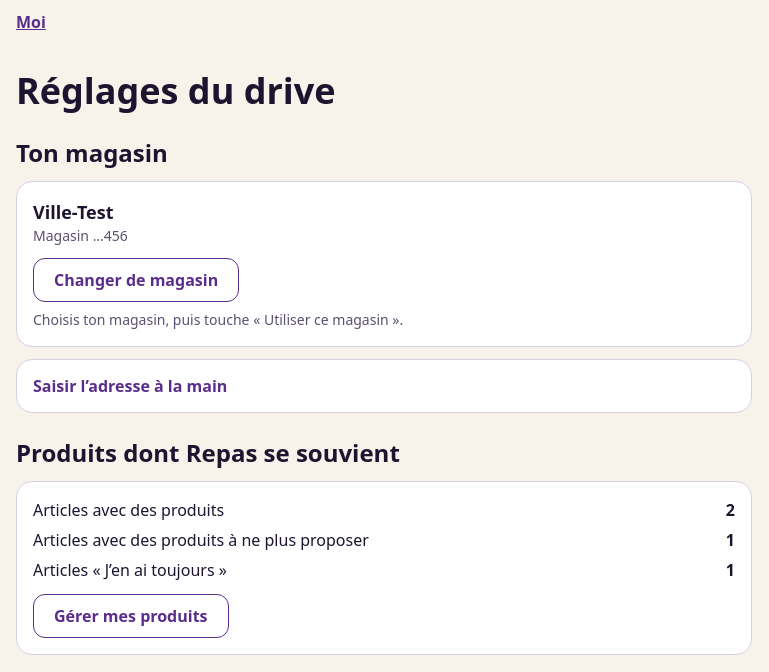
Scenario: réglages du drive : la lecture du magasin par l’application (un seul geste, DRV-623) › le même magasin relu : rien n’est écrit, aucun écran de plus
Check: the heading "Réglages du drive" is shown, box [16,66,336,115]
Click the button "Changer de magasin" at (136, 280), box [33,258,239,302]
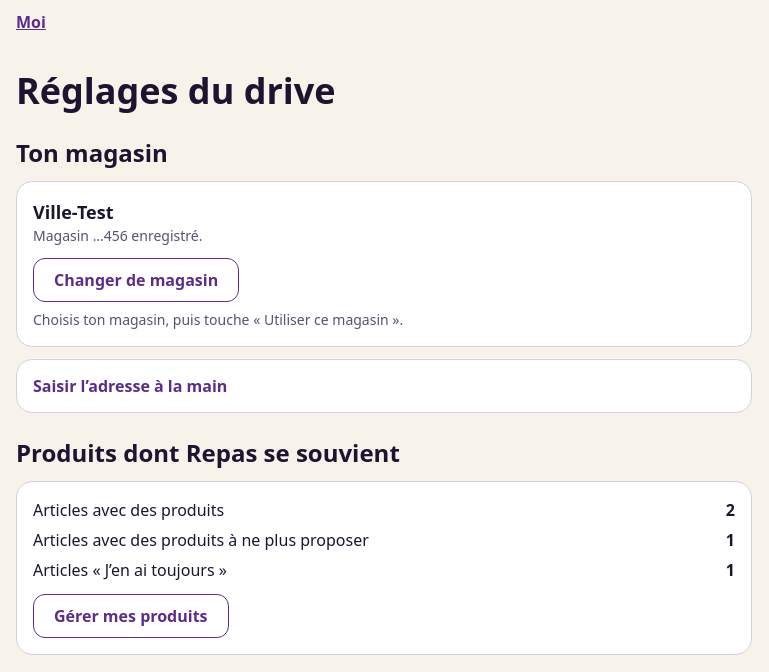
Check: the text "Magasin …456 enregistré." is shown, box [33,226,202,245]
